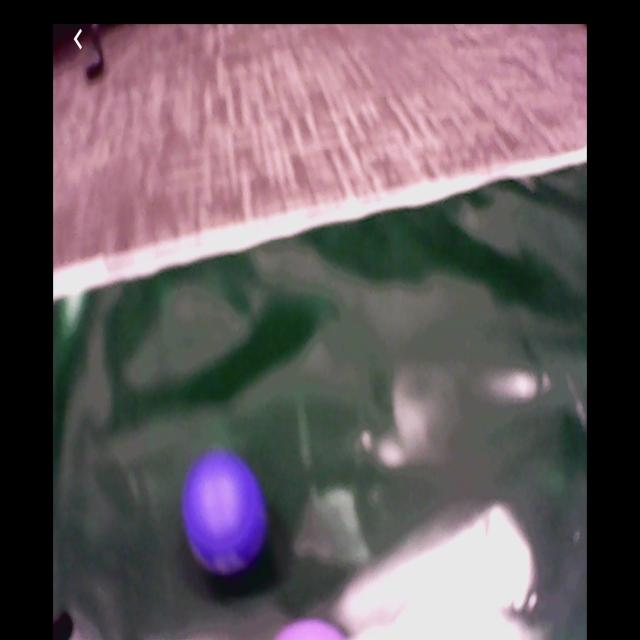ball: (185, 453, 266, 572), (270, 617, 349, 640)
